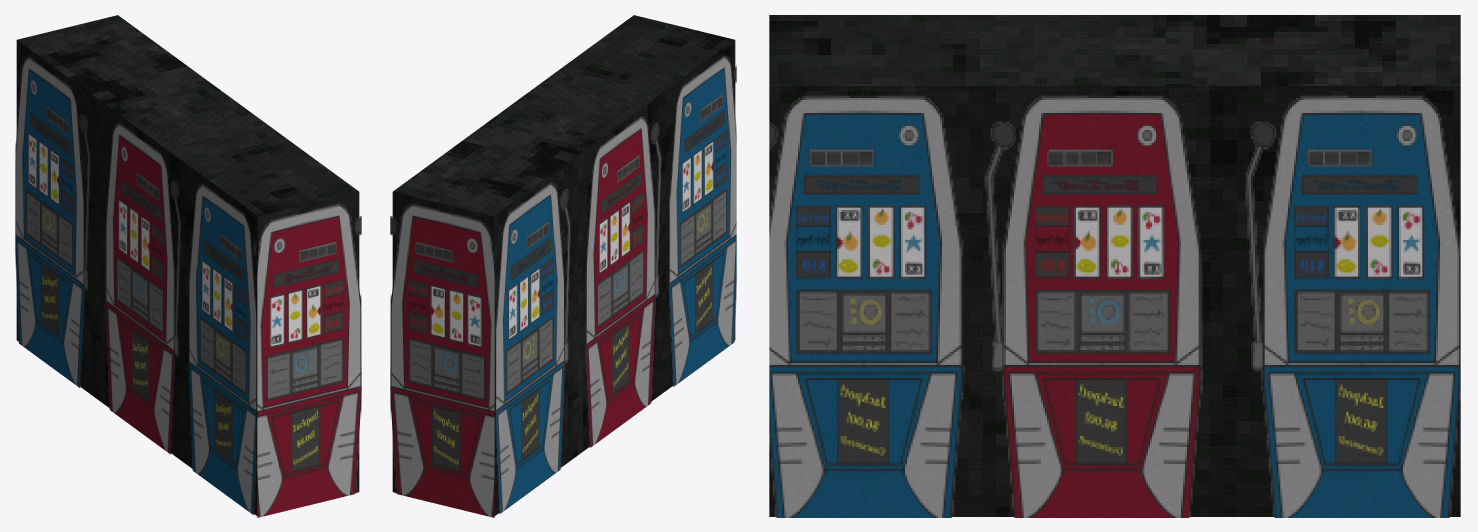
Rendered from CoverFull.glb.
The picture shows the model from 3 angles, left to right: view 1: azimuth 30°, elevation 25°; view 2: azimuth 150°, elevation 25°; view 3: azimuth 270°, elevation 25°; orthographic projection. The views are drawn at different scales.
Parts seen in each view (by area): view 1: CoverFull; view 2: CoverFull; view 3: CoverFull.
Boxes of the visible parts, x1,y1,x2,y2 form: CoverFull: (15,15,361,517); CoverFull: (390,15,736,517); CoverFull: (769,15,1460,517).
Size of the model in its own units: 2 by 5.5 by 8.06.
Materials: 2 (2 with a texture image).
